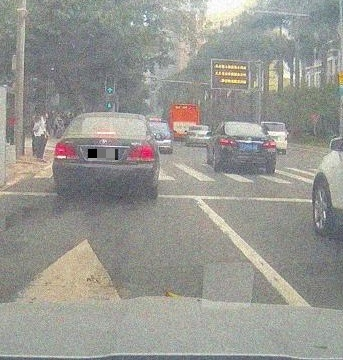L_light: (54, 142, 79, 160), (219, 138, 236, 146)
R_light: (126, 145, 155, 161), (262, 140, 276, 147)
T_light: (96, 131, 116, 136), (241, 124, 249, 127)
day-brake: (52, 112, 159, 199)
day-no: (218, 122, 276, 173)
plate_1: (88, 149, 118, 160)
